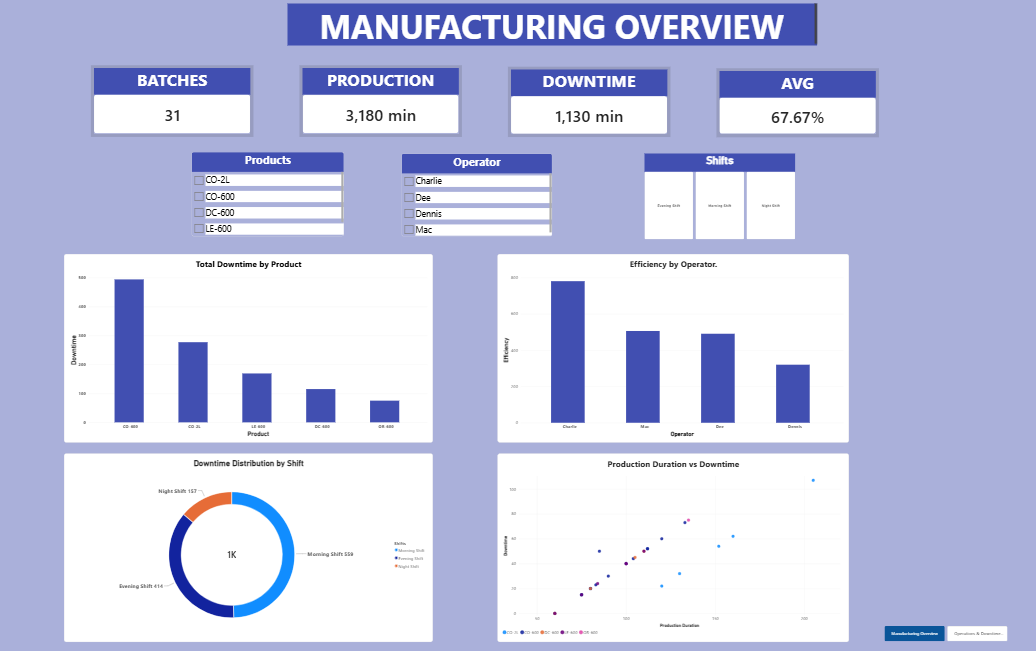

What the dashboard file says about the page in this screenshot:
{"tool":"powerbi","page":{"name":"Manufacturing Overview","canvas":[3840,2160],"ordinal":0},"visuals":[{"type":"textbox","box":[1058.9,43.9,1722.5,136.6],"z":0},{"type":"cardVisual","title":"PRODUCTION","fields":{"Data":["Downtime_Factors.Production Duration Card"]},"box":[1106.9,254.4,508.8,213.5],"z":1000},{"type":"cardVisual","title":" BATCHES","fields":{"Data":["Downtime_Factors.Total Batches"]},"box":[427,254.4,508.8,213.5],"z":2000},{"type":"cardVisual","title":"DOWNTIME","fields":{"Data":["Downtime_Factors.Downtime Card"]},"box":[1786.8,258.9,508.8,209],"z":3000},{"type":"cardVisual","title":"AVG","fields":{"Data":["Downtime_Factors.Efficiency Card"]},"box":[2466.6,263.5,508.8,204.4],"z":4000},{"type":"slicer","title":"Products","fields":{"Values":["productivity clean.Product"]},"box":[746,526,496,274],"z":5000},{"type":"slicer","title":"Operator","fields":{"Values":["productivity clean.Operator"]},"box":[1430,530,490,270],"z":5001},{"type":"advancedSlicerVisual","fields":{"Values":["productivity clean.Shifts"]},"box":[2220,530,490,280],"z":5002},{"type":"clusteredColumnChart","title":"Total Downtime by Product","fields":{"Category":["productivity clean.Product"],"Y":["Sum(productivity clean.Total Downtime (Minutes))"]},"box":[333.3,860,1200,613.3],"z":5003},{"type":"clusteredColumnChart","title":"Efficiency by Operator.","fields":{"Category":["productivity clean.Operator"],"Y":["Sum(productivity clean.Production Efficiency (%))"]},"box":[1740,860,1143.3,613.3],"z":5004},{"type":"donutChart","title":"Downtime Distribution by Shift","fields":{"Category":["productivity clean.Shifts"],"Y":["Sum(productivity clean.Total Downtime (Minutes))"]},"box":[333.3,1506.7,1200,613.3],"z":5005},{"type":"scatterChart","title":"Production Duration vs Downtime","fields":{"Series":["productivity clean.Product"],"X":["productivity clean.Production Duration"],"Y":["Sum(productivity clean.Total Downtime (Minutes))"]},"box":[1740,1506.7,1143.3,613.3],"z":5006},{"type":"pageNavigator","box":[3000,2070,400,50],"z":5007}]}

Visuals, with their boxes on the page's 3840x2160 design canvas (x1, y1, x2, y2). These are canvas units, not pixel positions in the 1036x651 screenshot, which may show the page scaled, cropped or inside an application window:
textbox: 1059, 44, 2781, 180
"PRODUCTION" cardVisual: 1107, 254, 1616, 468
" BATCHES" cardVisual: 427, 254, 936, 468
"DOWNTIME" cardVisual: 1787, 259, 2296, 468
"AVG" cardVisual: 2467, 264, 2975, 468
"Products" slicer: 746, 526, 1242, 800
"Operator" slicer: 1430, 530, 1920, 800
advancedSlicerVisual - productivity clean.Shifts: 2220, 530, 2710, 810
"Total Downtime by Product" clusteredColumnChart: 333, 860, 1533, 1473
"Efficiency by Operator." clusteredColumnChart: 1740, 860, 2883, 1473
"Downtime Distribution by Shift" donutChart: 333, 1507, 1533, 2120
"Production Duration vs Downtime" scatterChart: 1740, 1507, 2883, 2120
pageNavigator: 3000, 2070, 3400, 2120
